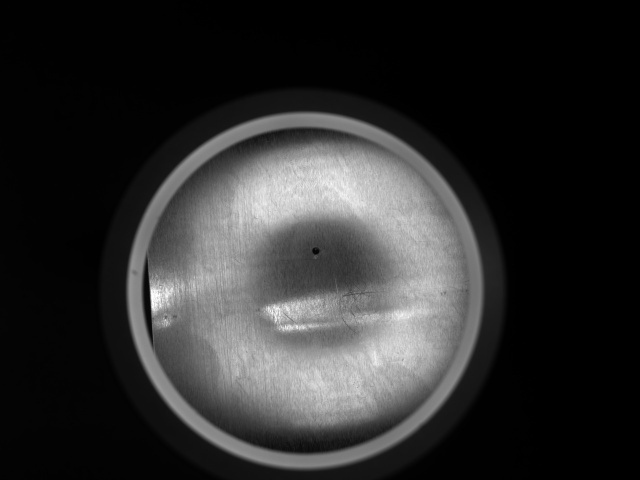zhen_kong: (309, 242, 324, 257)
